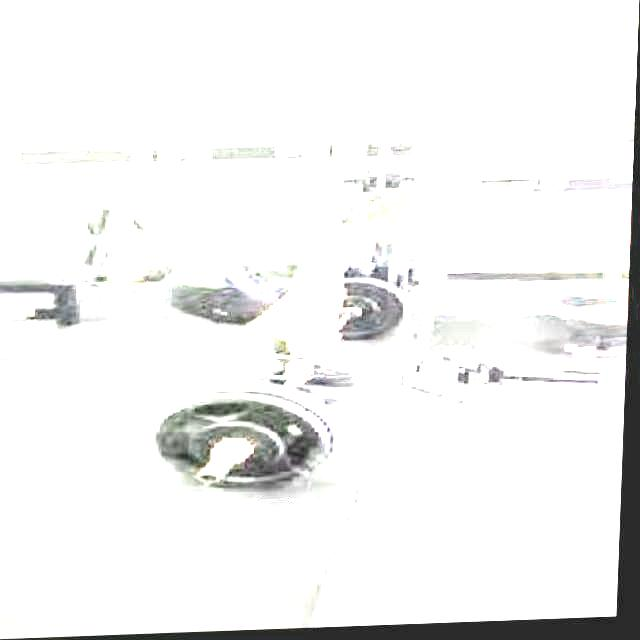barbell: (135, 374, 372, 507)
